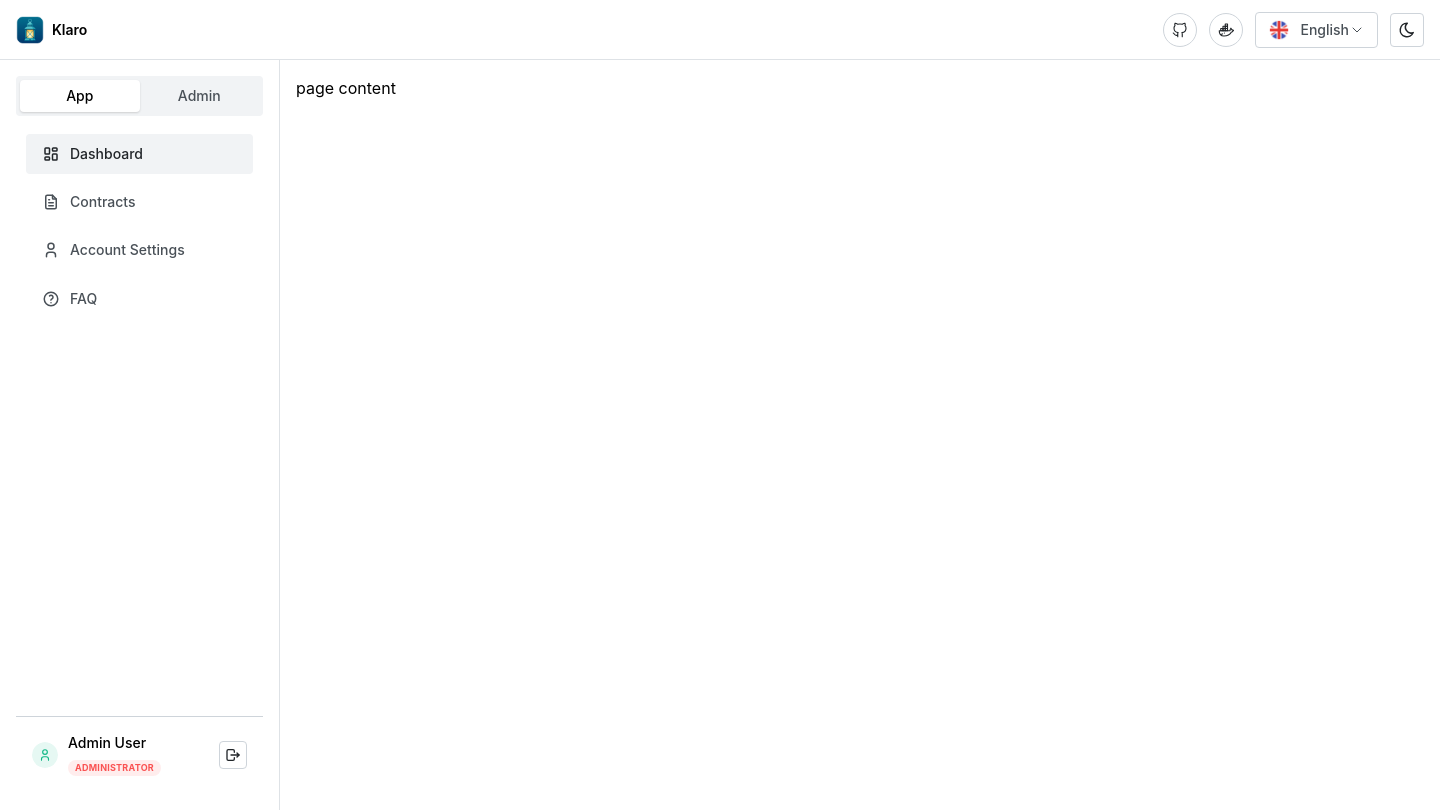
AppShell › renders Accounts link for admin users after switching to admin segment
Click the radio button labelled "Admin": click(199, 96) [178, 87, 221, 104]
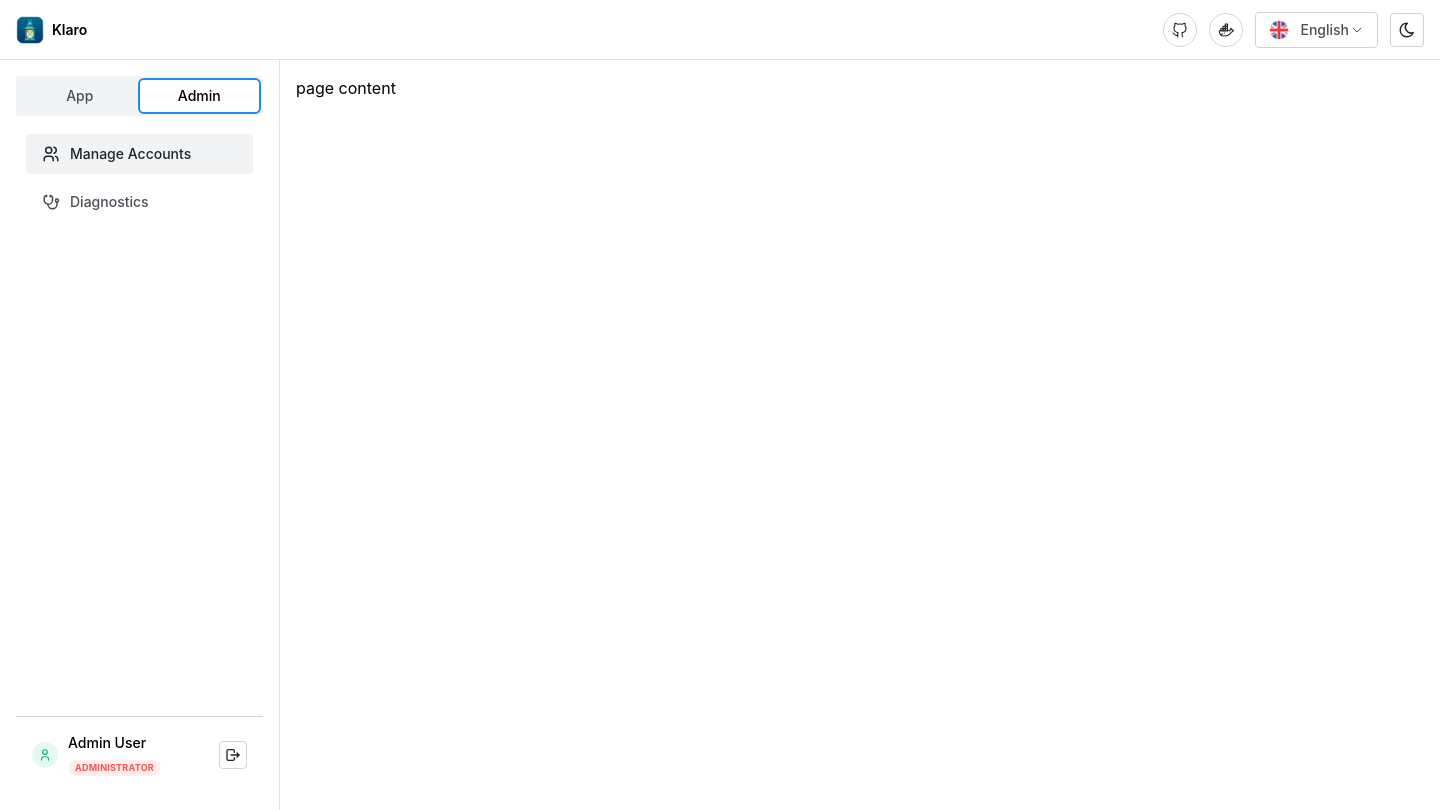
Check: the link "Manage Accounts" is shown, box [26, 134, 253, 174]
